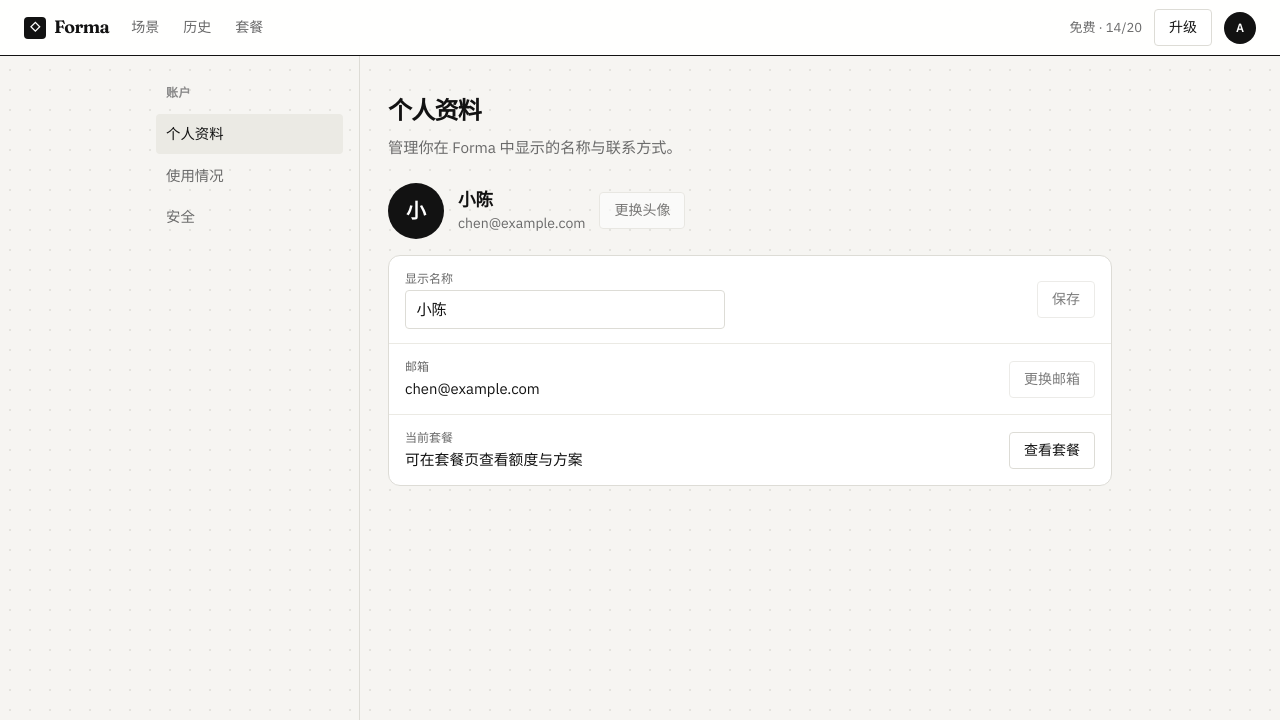
Test case: AccountSettings › loads usage summary and settled entries when opening usage section
Click the tab "使用情况" at coordinates (250, 175), box [156,156,343,195]
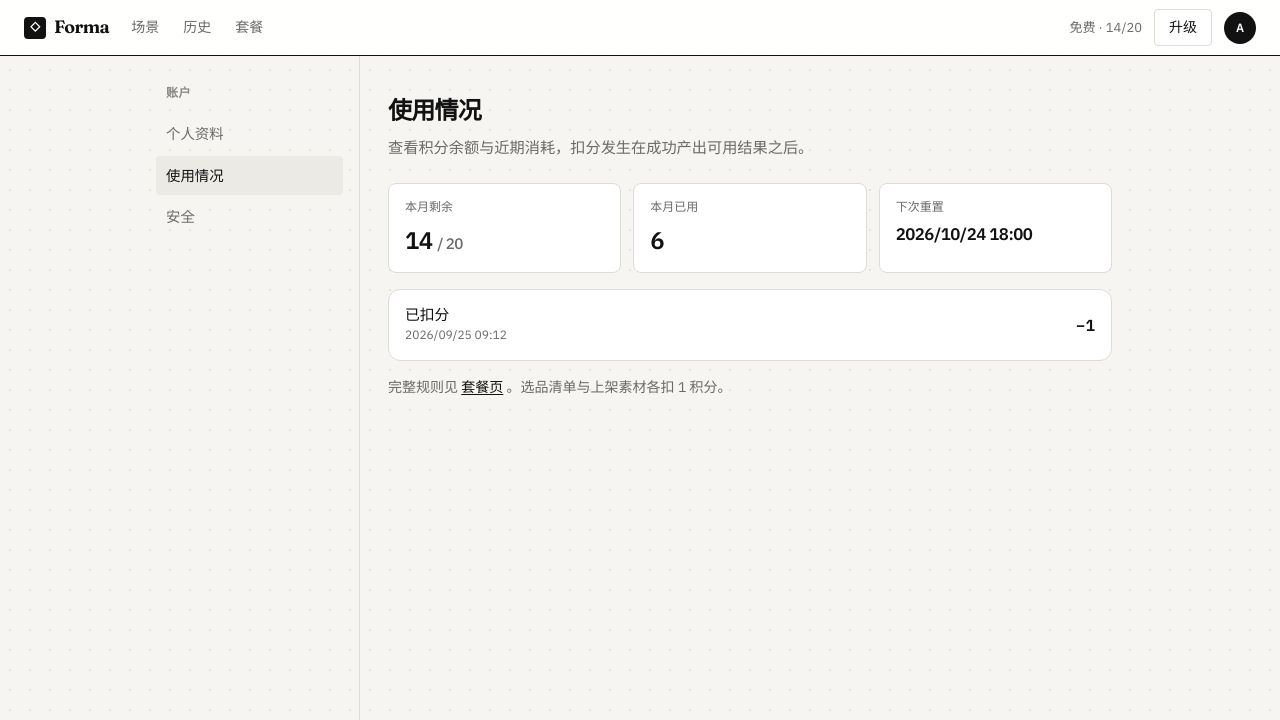
Check: the text "本月剩余" is shown, box [405,199,453,214]
Check: the text "本月已用" is shown, box [650,199,698,214]
Check: the text "已扣分" is shown, box [405,305,449,324]
